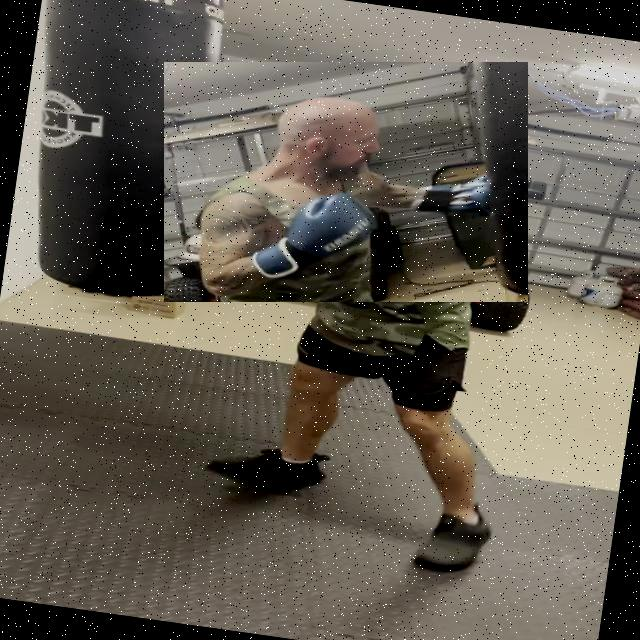punch: (164, 62, 528, 302)
